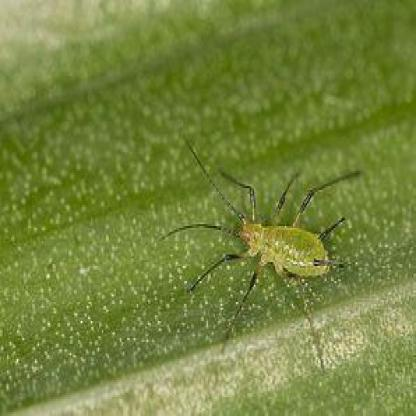aphid: (178, 167, 357, 368)
